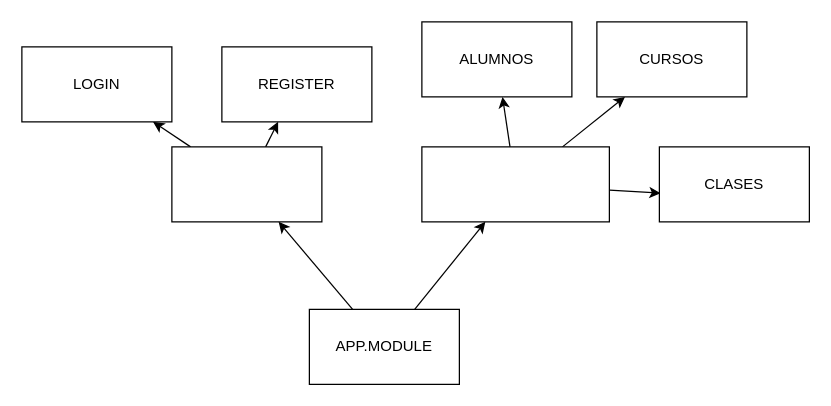
Some shapes in this 831 by 406 pixel diagram are drawn without their labels. Here are the shapes that lost their labels. From the top down, the box of each, then its label:
(171, 146, 322, 222): AUTH
(421, 146, 609, 222): APP(DASHBOARD) PANEL ADMINISTRATIVO
